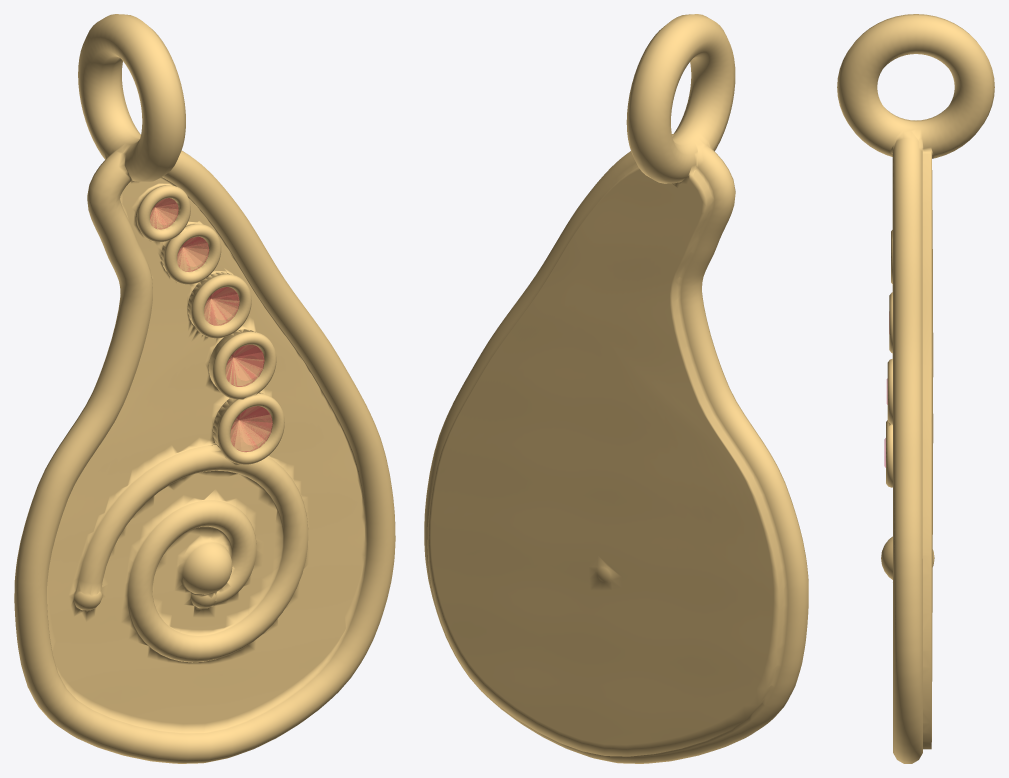
File: pendant_paisley.glb
The picture shows the model from 3 angles, left to right: view 1: azimuth 30°, elevation 25°; view 2: azimuth 150°, elevation 25°; view 3: azimuth 270°, elevation 25°; orthographic projection. The views are drawn at different scales.
Visible parts, largest first — view 1: gold, line0_stone, line1_stone, line2_stone, line3_stone, line4_stone; view 2: gold; view 3: gold.
Boxes of the visible parts, <box> form: gold: <box>14,14,395,763</box>; line0_stone: <box>230,406,272,451</box>; line1_stone: <box>226,345,264,386</box>; line2_stone: <box>204,287,239,325</box>; line3_stone: <box>177,237,208,271</box>; line4_stone: <box>150,198,178,229</box>; gold: <box>424,14,808,763</box>; gold: <box>837,14,994,763</box>.
Bounding box in the file's own units: 0.0134 × 0.0257 × 0.0053.
